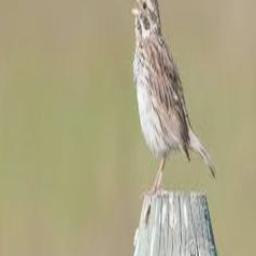Sparrow: (129, 0, 216, 193)
